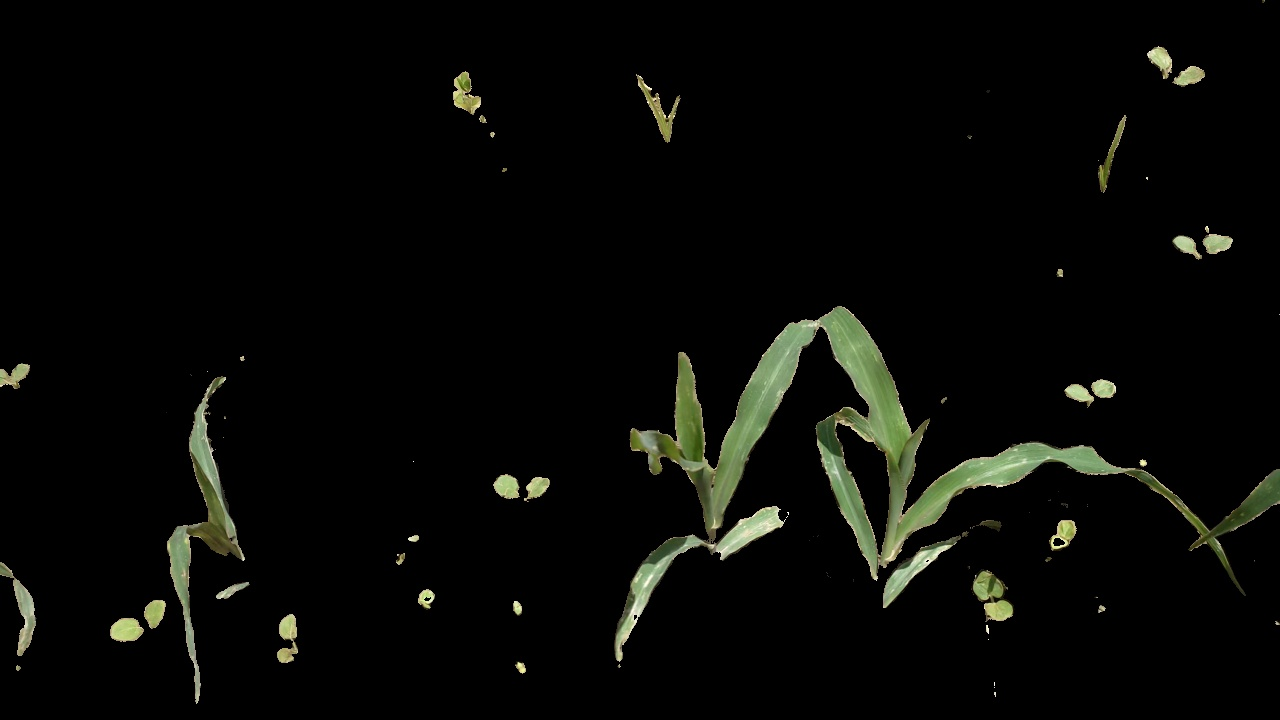crop: (811, 294, 1243, 626), (608, 311, 824, 640), (162, 339, 254, 700)
weed: (1073, 117, 1130, 217), (1143, 29, 1217, 91), (630, 74, 691, 149), (478, 462, 564, 507), (104, 592, 162, 645), (1173, 214, 1231, 263), (972, 568, 1017, 624), (444, 63, 486, 120), (1063, 378, 1127, 407), (1050, 513, 1093, 555), (270, 613, 303, 667), (412, 591, 441, 610)
